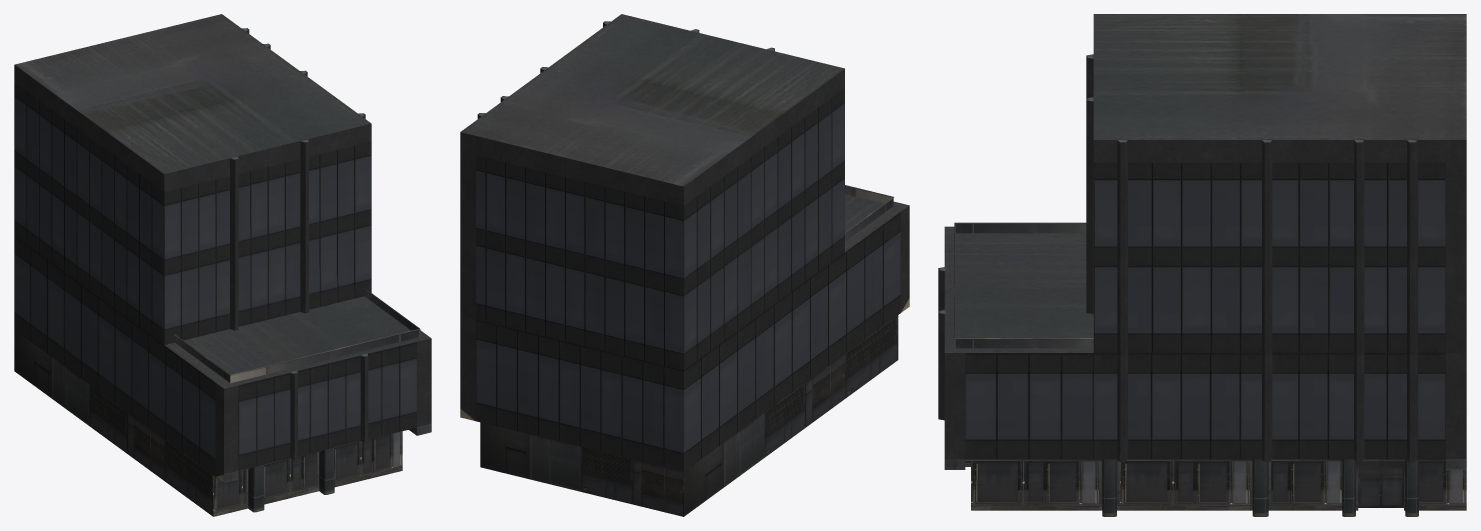
Rendered from tutorial_building9.gltf.
3 renders of one model, left to right at view 1: azimuth 30°, elevation 25°; view 2: azimuth 150°, elevation 25°; view 3: azimuth 270°, elevation 25°, orthographic. The views are drawn at different scales.
Visible parts, largest first — view 1: building9; view 2: building9; view 3: building9.
Part boxes in pixels (box(x1,y1,x2,y2)): building9: box(14, 14, 431, 516); building9: box(460, 14, 909, 516); building9: box(938, 14, 1466, 516).
Bounding box in the file's own units: 14.44 × 19.96 × 25.
Materials: 2 (2 with a texture image).
